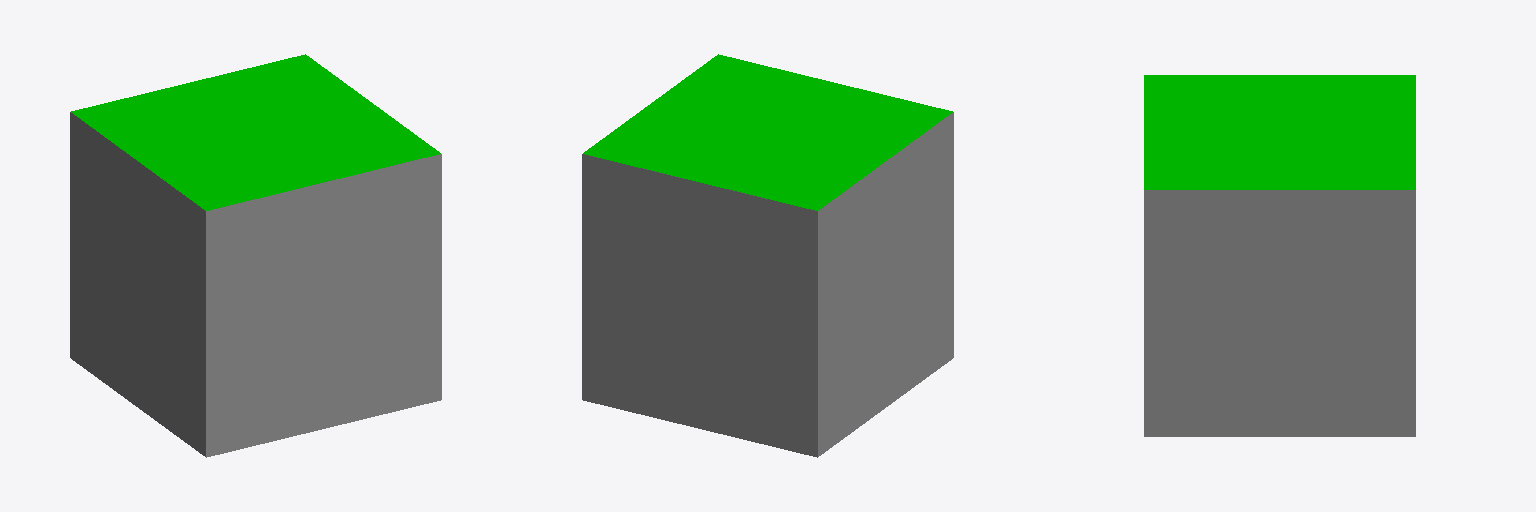
File: red_green_walls.obj
3 renders of one model, left to right at view 1: azimuth 30°, elevation 25°; view 2: azimuth 150°, elevation 25°; view 3: azimuth 270°, elevation 25°, orthographic.
Parts seen in each view (by area): view 1: Cube; view 2: Cube; view 3: Cube.
Part boxes in pixels (x1,y1,x2,y2): Cube: (70, 54, 441, 457); Cube: (582, 54, 953, 457); Cube: (1144, 75, 1415, 436).
Bounding box in the file's own units: 2 × 2 × 2.